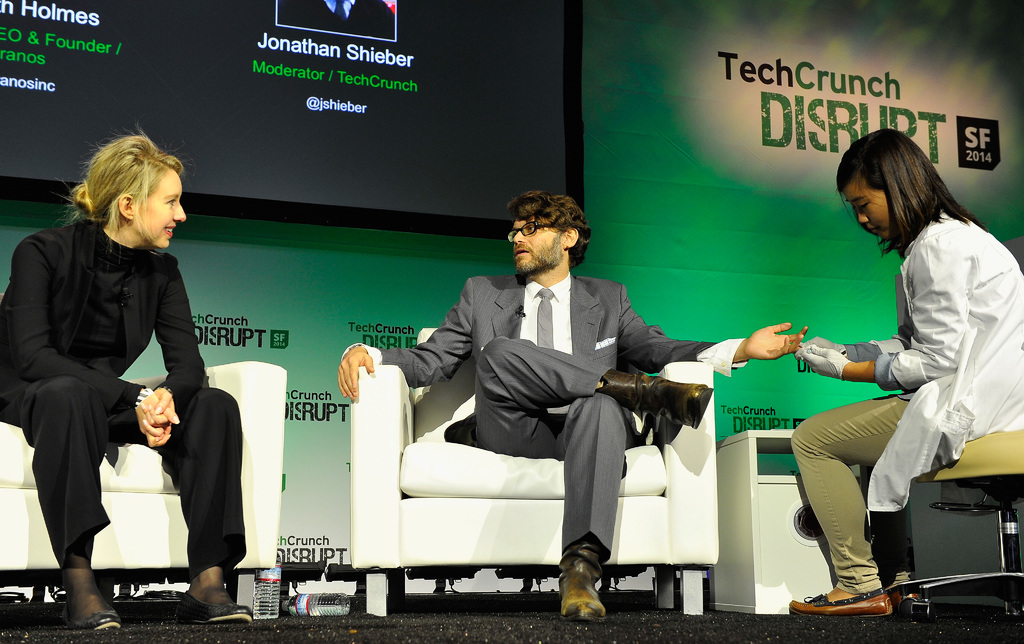Footwear: (39, 554, 104, 634), (790, 590, 896, 615), (175, 602, 256, 619)
